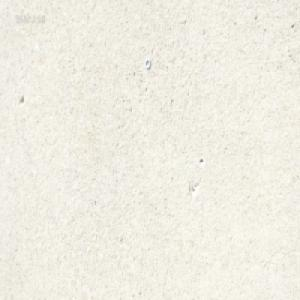Washer: (144, 58, 151, 69)
